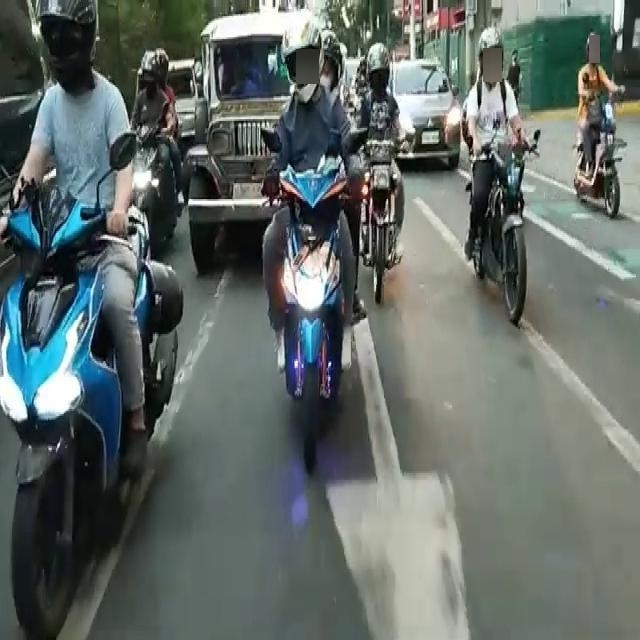car: (397, 61, 457, 159)
jeepney: (195, 18, 291, 273)
motorcycle: (26, 31, 114, 567), (270, 51, 334, 462), (473, 33, 525, 323), (355, 68, 403, 337), (129, 65, 173, 260), (577, 51, 621, 225)
